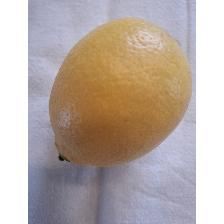Zitrone: (46, 14, 194, 170)
